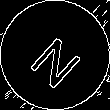N_NE: (23, 23, 87, 87)
